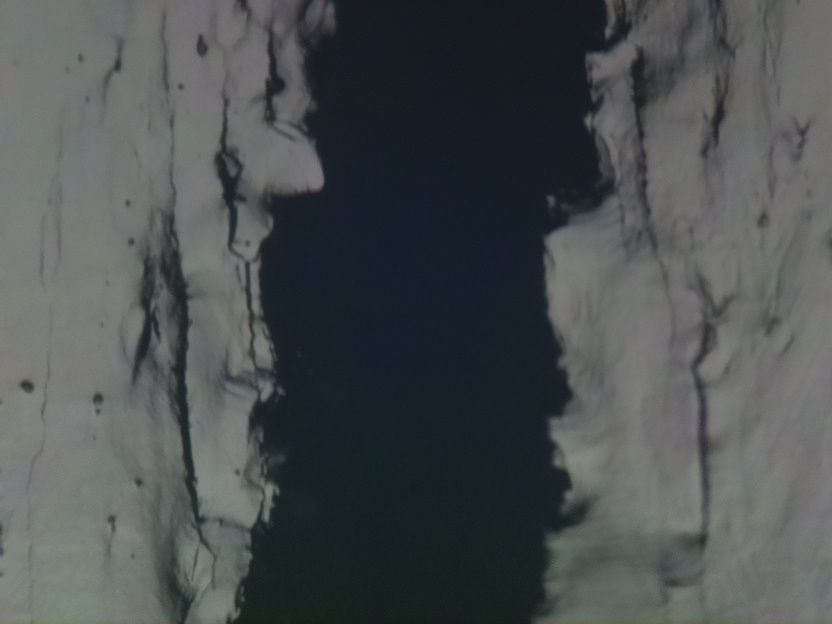crack: (227, 0, 613, 624), (171, 212, 216, 590), (687, 279, 722, 544)
